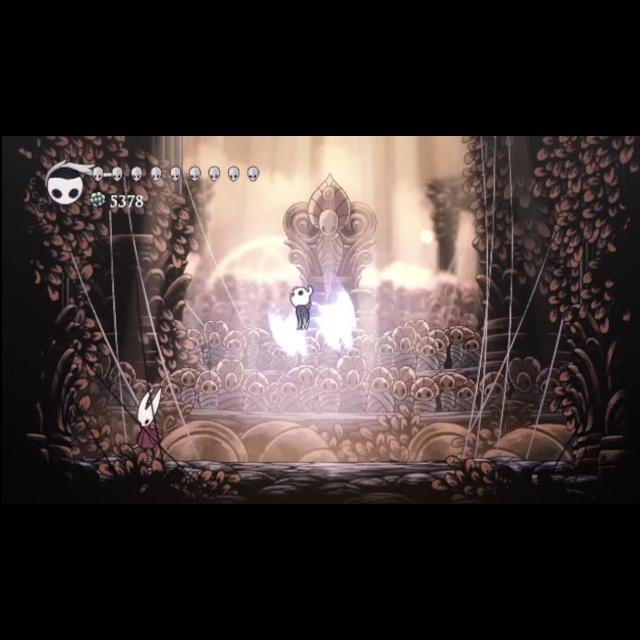Enemy: (125, 382, 179, 463)
Player: (286, 282, 318, 334)
